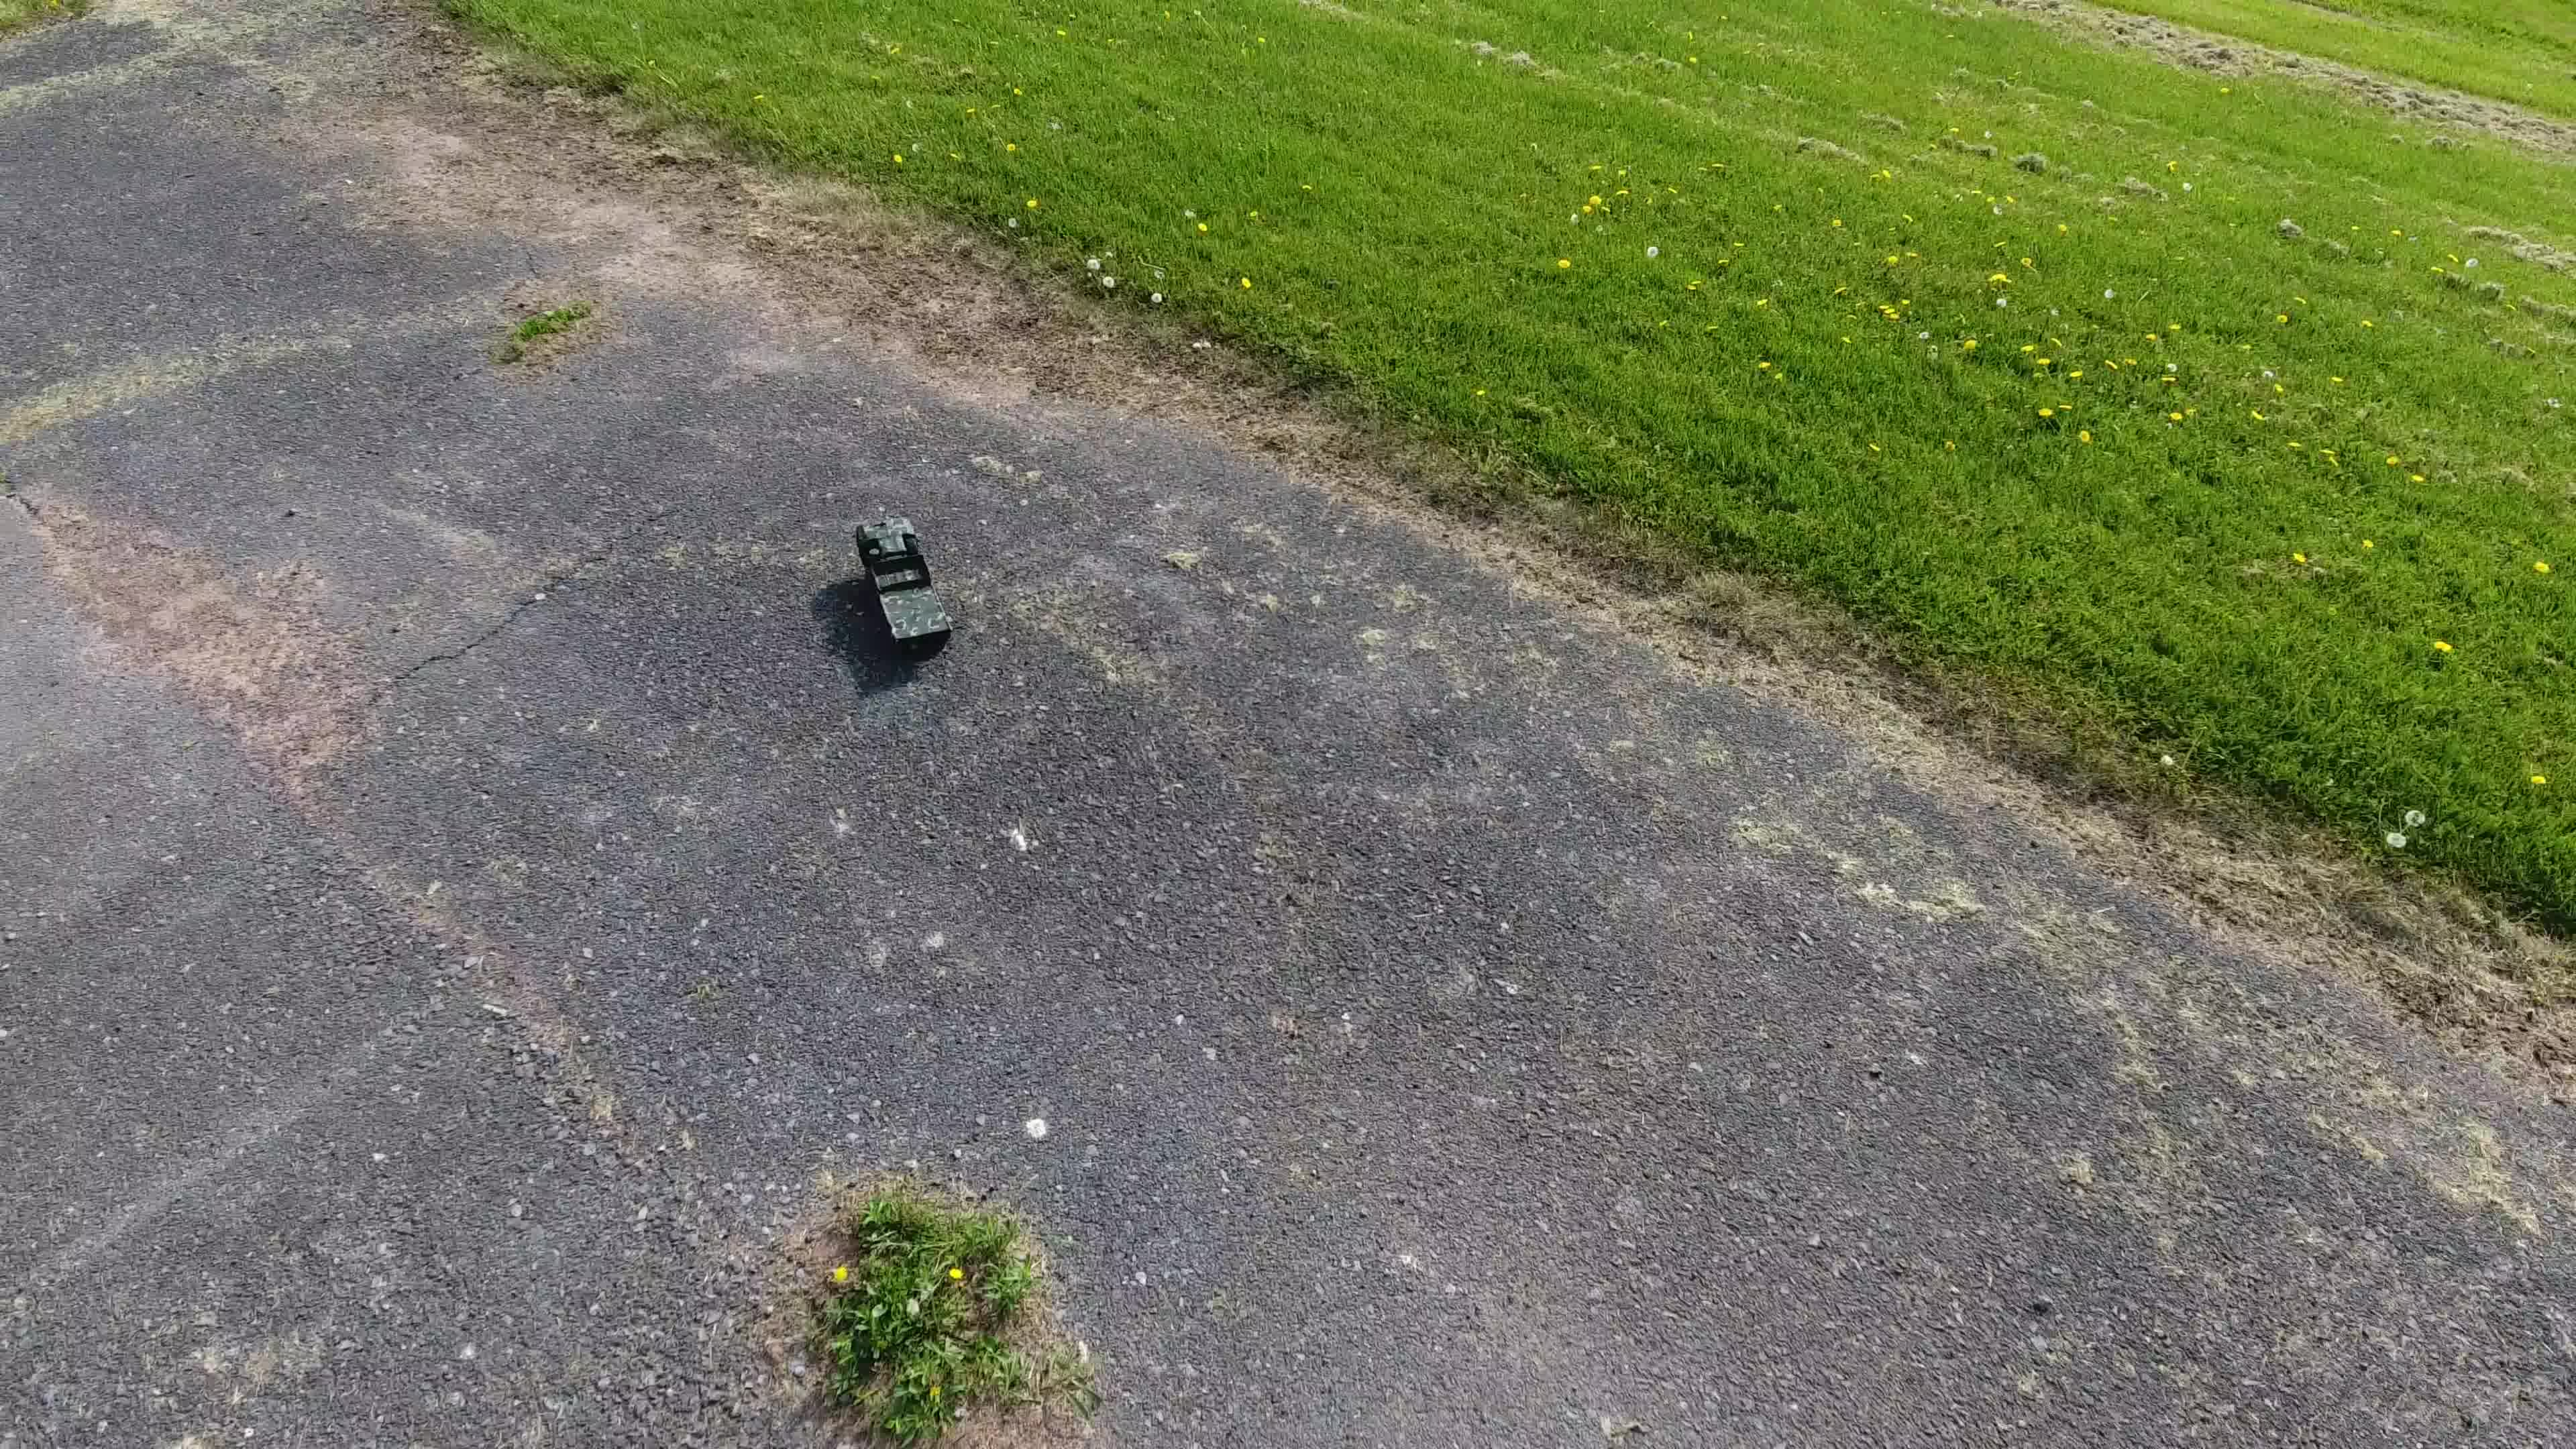transporter9_camo: (853, 510, 961, 658)
